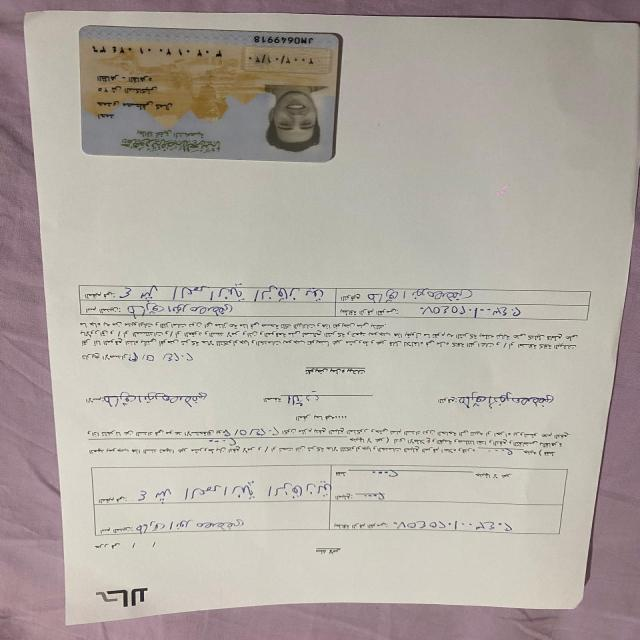ID-cards: (72, 21, 355, 167)
